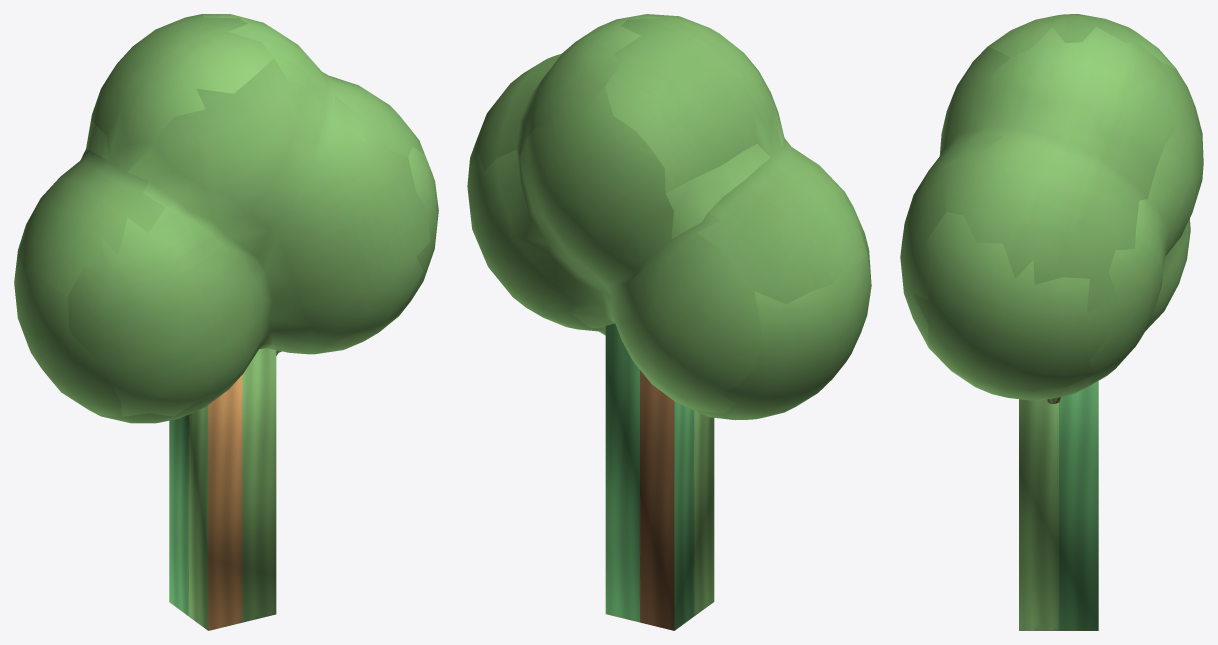
The model's file is tree_round_b.glb.
The picture shows the model from 3 angles, left to right: view 1: azimuth 30°, elevation 25°; view 2: azimuth 150°, elevation 25°; view 3: azimuth 270°, elevation 25°; orthographic projection.
Visible parts, largest first — view 1: lod0, col; view 2: lod0, col; view 3: lod0, col.
Part boxes in pixels (x1,y1,x2,y2): lod0: (14, 14, 438, 423); col: (169, 348, 276, 630); lod0: (467, 14, 871, 420); col: (605, 323, 714, 630); lod0: (900, 14, 1203, 404); col: (1019, 381, 1098, 630).
Size of what is drawn, in the model's own units: 3.32 by 4.88 by 2.28.
2 materials, 2 textured.
